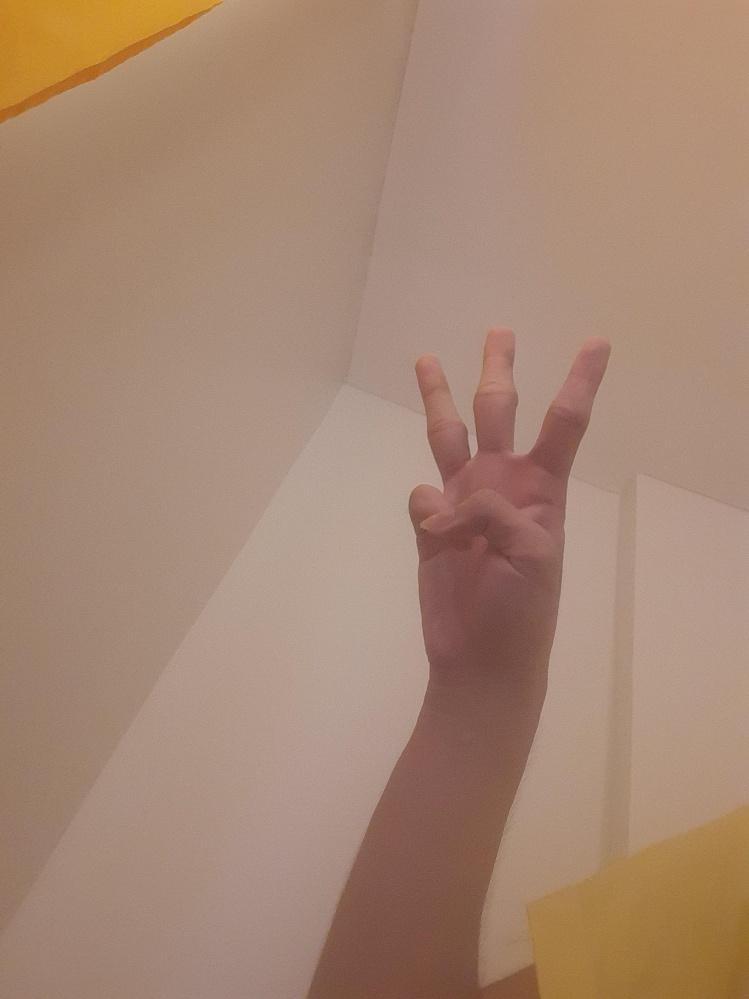w: (408, 326, 610, 670)
